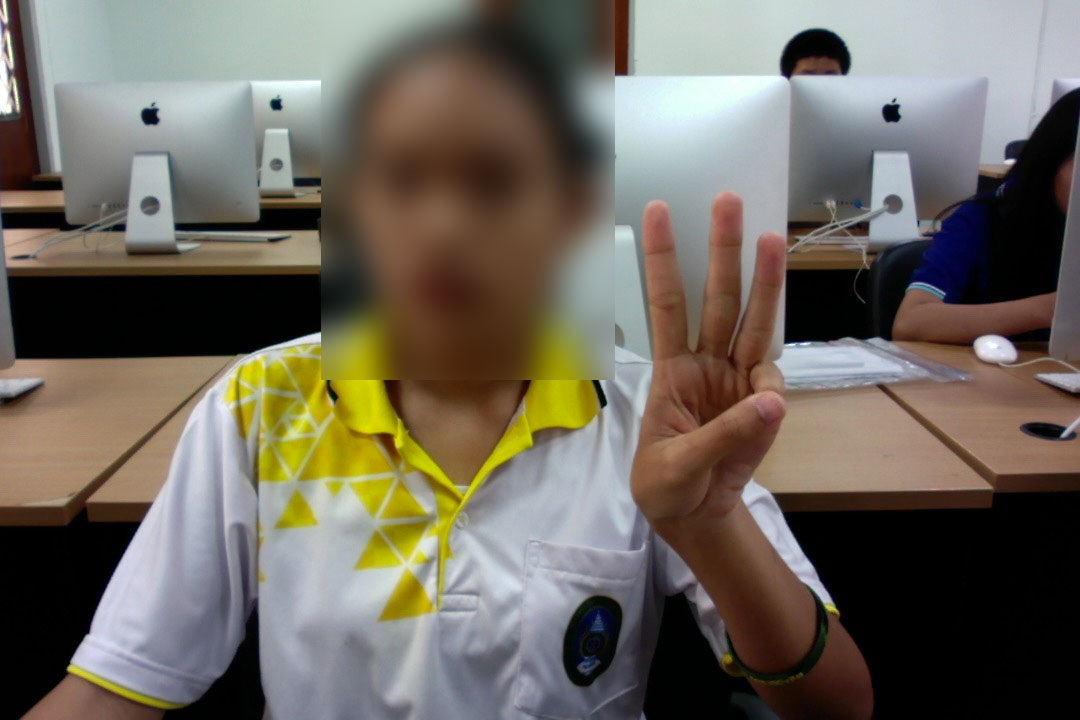wor: (605, 182, 813, 541)
